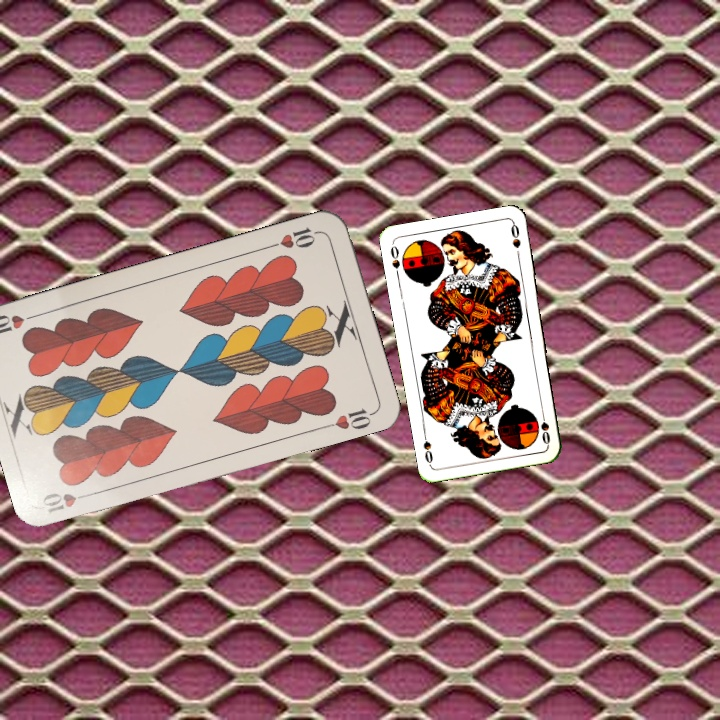H10: (38, 488, 97, 516), (265, 223, 323, 251)
SO: (536, 406, 553, 447), (386, 240, 403, 281)
